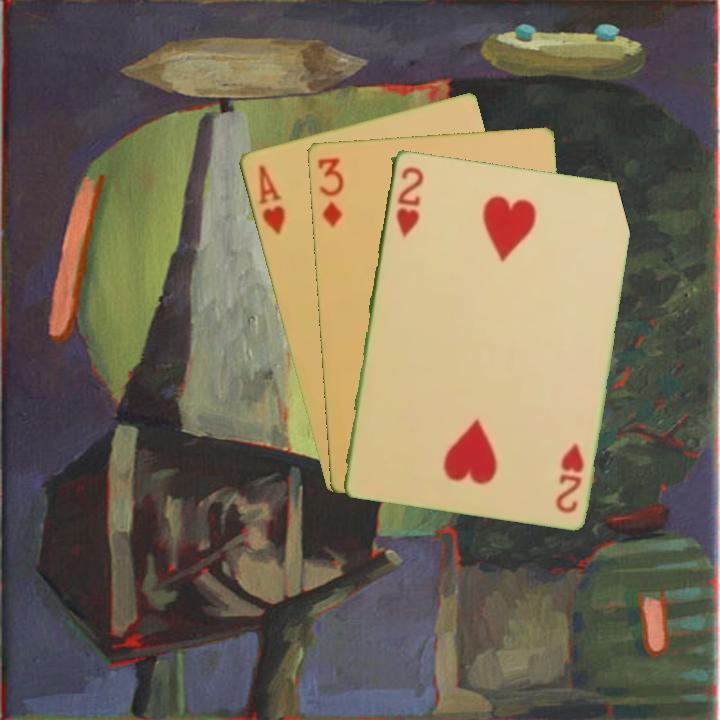2h: (551, 439, 586, 516), (392, 163, 426, 240)
3d: (314, 154, 346, 229)
Ah: (254, 161, 288, 237)
